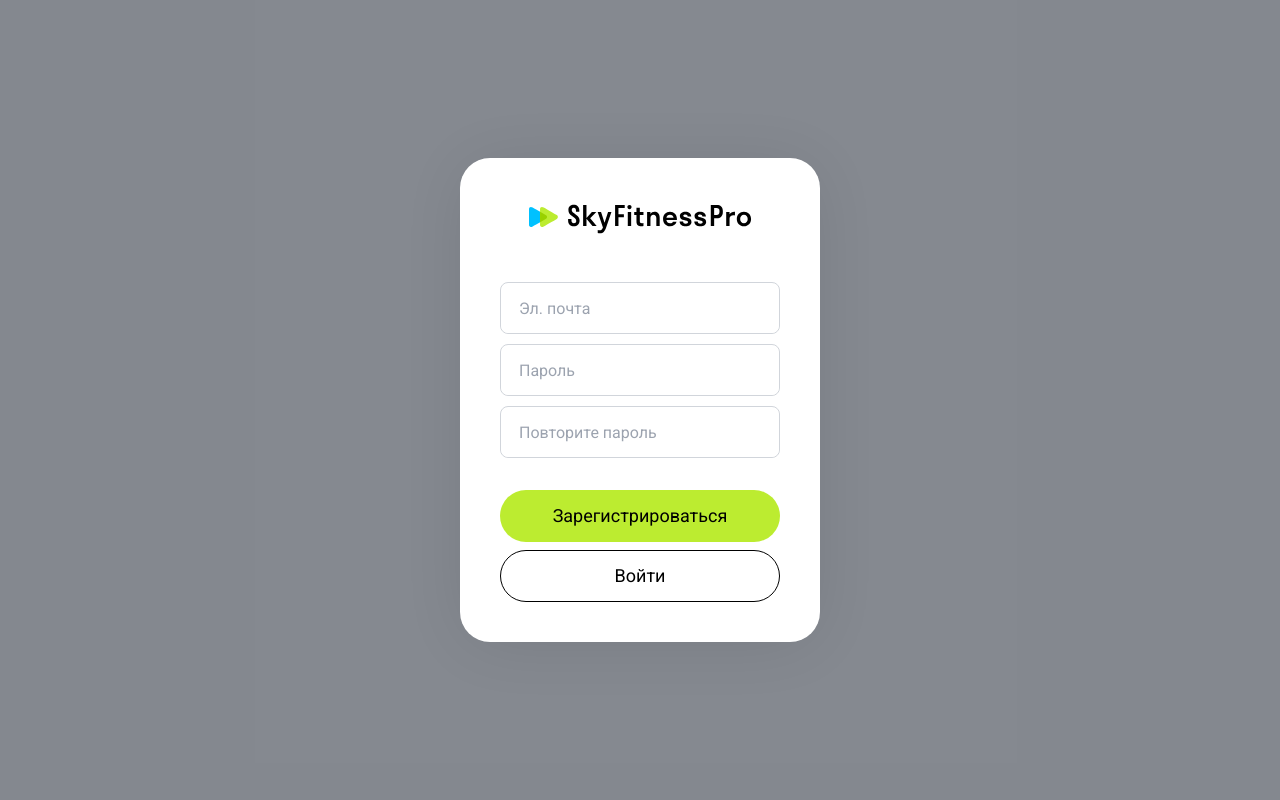
it: Register Component › должен показывать ошибки валидации для пустых полей
Click the button "Зарегистрироваться": click(640, 516) [500,490,780,542]
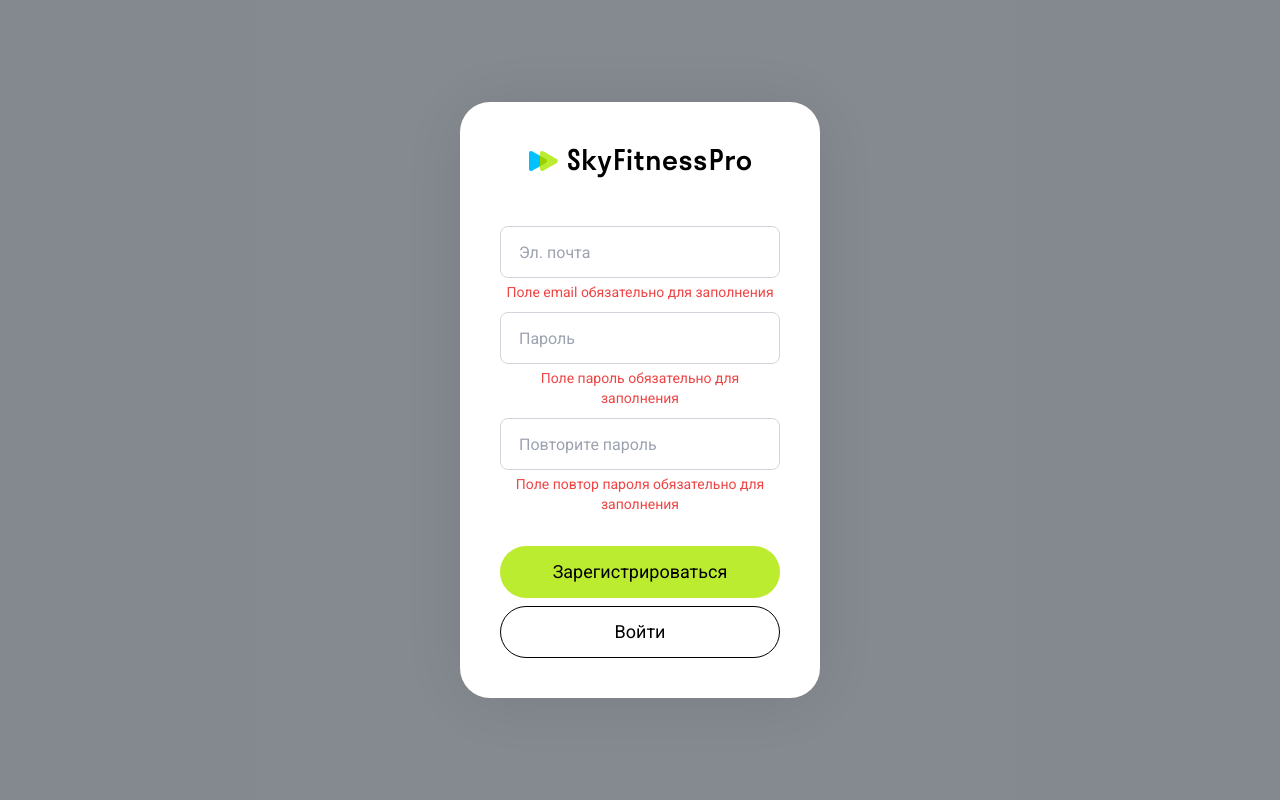
expect the text "Поле email обязательно для заполнения" is shown: met, box [500,282,780,302]
expect the text "Поле пароль обязательно для заполнения" is shown: met, box [541,370,739,406]
expect the text "Поле повтор пароля обязательно для заполнения" is shown: met, box [500,474,780,514]
